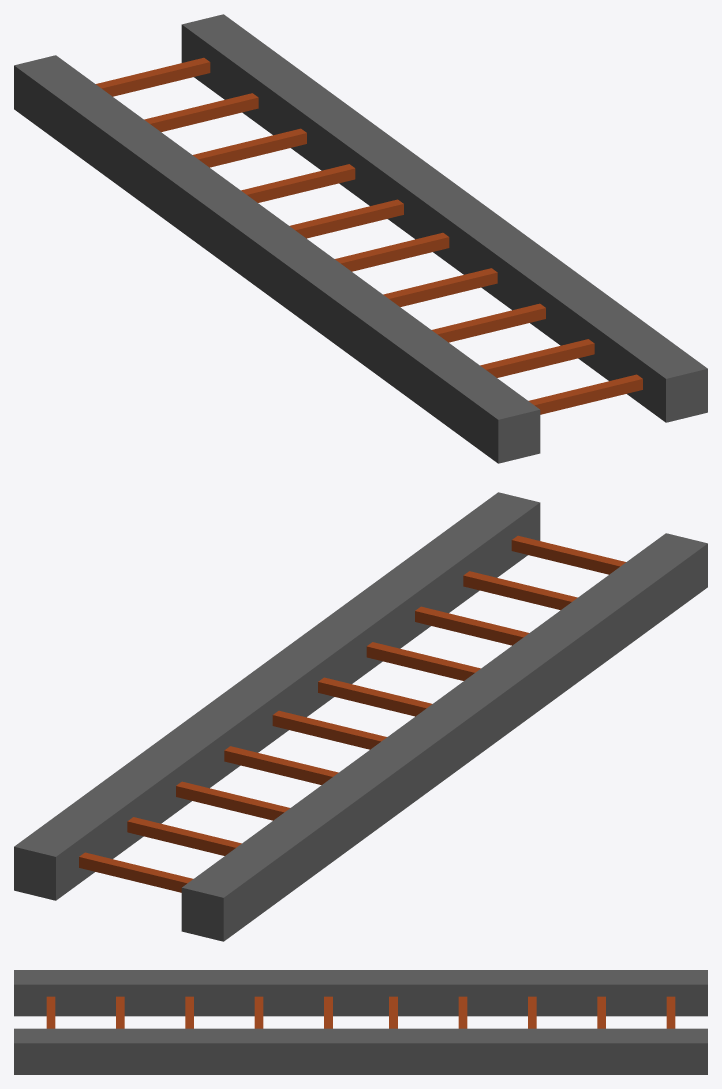
The model's file is SM_Rail.fbx.
3 views of the same model, one above another, from view 1: azimuth 30°, elevation 25°; view 2: azimuth 150°, elevation 25°; view 3: azimuth 270°, elevation 25° (orthographic). The views are drawn at different scales.
Visible parts, largest first — view 1: 立方体; view 2: 立方体; view 3: 立方体.
Boxes of the visible parts, x1,y1,x2,y2 form: 立方体: (14, 14, 707, 463); 立方体: (14, 492, 707, 941); 立方体: (14, 970, 707, 1074).
Bounding box in the file's own units: 250 × 50 × 1000.
2 materials, 2 textured.
